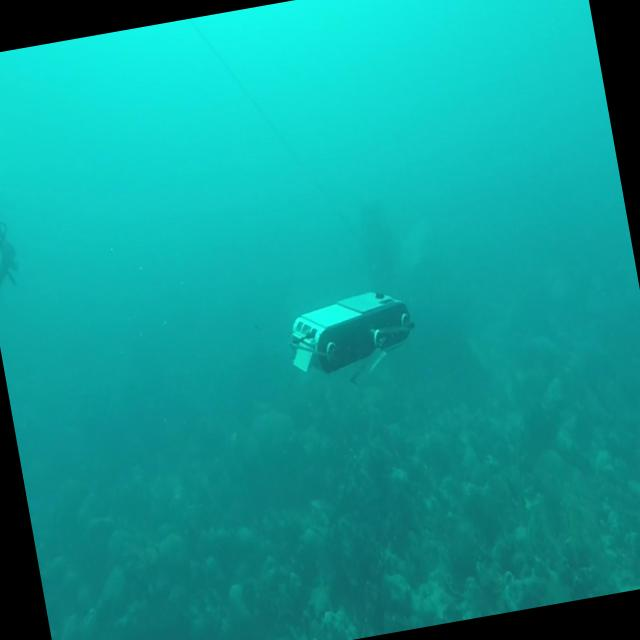human: (0, 134, 25, 307)
